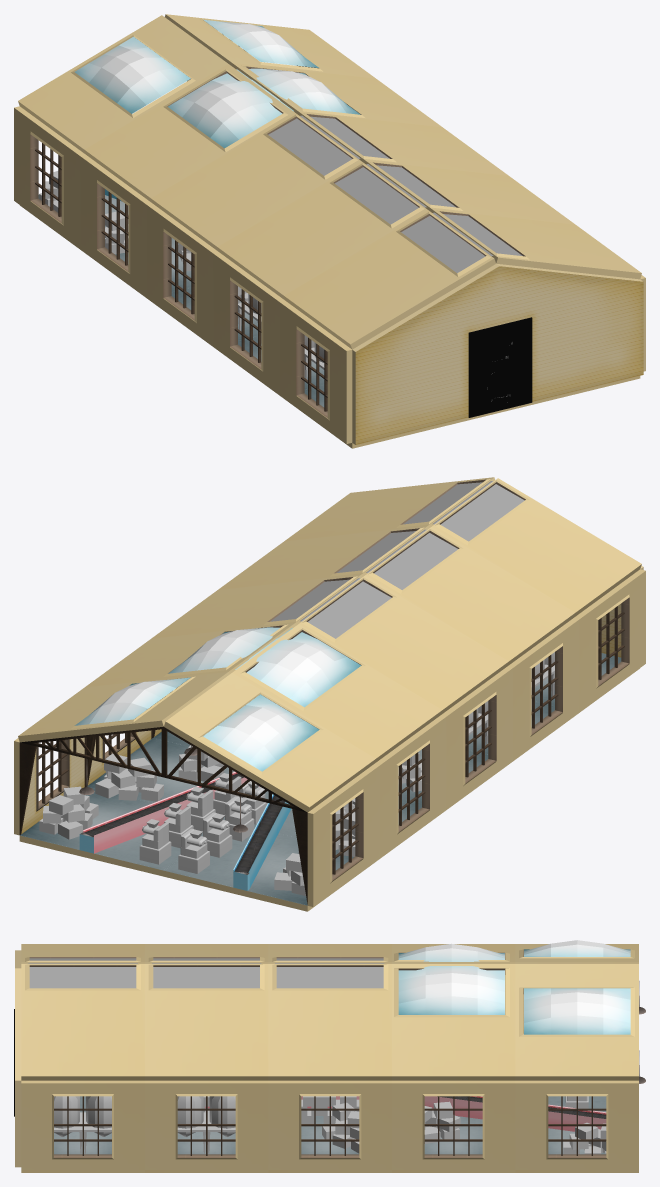
Rendered from Env Ending.fbx.
3 renders of one model, top to bottom at view 1: azimuth 30°, elevation 25°; view 2: azimuth 150°, elevation 25°; view 3: azimuth 270°, elevation 25°, orthographic. The views are drawn at different scales.
Parts seen in each view (by area): view 1: Factory_Module, Facotry_Back_Wall, Factory_Misc, Factory_Garage, SILOS; view 2: Factory_Module, Factory_Misc, DOUGH_MACH4, BOX_GROUP_MESSY7, BOX_GROUP_MESSY6, TR2, TB2, BOX_GROUP_MESSY5, SILOS, Facotry_Back_Wall; view 3: Factory_Module, Factory_Misc, SILOS, Facotry_Back_Wall, BOX_GROUP_MESSY4, BOX_GROUP_MESSY5, BOX_GROUP_ORG3, BOX_GROUP_MESSY7, TR2, TR1.
Part boxes in pixels (left/top/right/bottom): Factory_Module: left=14, top=14, right=645, bottom=448; Facotry_Back_Wall: left=352, top=263, right=643, bottom=444; Factory_Misc: left=35, top=19, right=522, bottom=411; Factory_Garage: left=468, top=317, right=532, bottom=417; SILOS: left=238, top=294, right=324, bottom=379; Factory_Module: left=14, top=477, right=645, bottom=911; Factory_Misc: left=19, top=481, right=624, bottom=903; DOUGH_MACH4: left=139, top=773, right=267, bottom=873; BOX_GROUP_MESSY7: left=39, top=786, right=305, bottom=895; BOX_GROUP_MESSY6: left=95, top=753, right=355, bottom=856; TR2: left=83, top=792, right=191, bottom=853; TB2: left=233, top=815, right=278, bottom=888; BOX_GROUP_MESSY5: left=178, top=745, right=355, bottom=814; SILOS: left=468, top=652, right=554, bottom=744; Facotry_Back_Wall: left=601, top=565, right=643, bottom=657; Factory_Module: left=21, top=944, right=638, bottom=1172; Factory_Misc: left=28, top=940, right=645, bottom=1155; SILOS: left=54, top=1096, right=235, bottom=1153; Facotry_Back_Wall: left=15, top=950, right=21, bottom=1167; BOX_GROUP_MESSY4: left=322, top=1102, right=359, bottom=1153; BOX_GROUP_MESSY5: left=424, top=1101, right=460, bottom=1143; BOX_GROUP_ORG3: left=301, top=1096, right=359, bottom=1123; BOX_GROUP_MESSY7: left=563, top=1122, right=606, bottom=1154; TR2: left=548, top=1104, right=606, bottom=1131; TR1: left=424, top=1096, right=482, bottom=1119.
Size of the model in its own units: 15.72 by 7.88 by 30.69.
